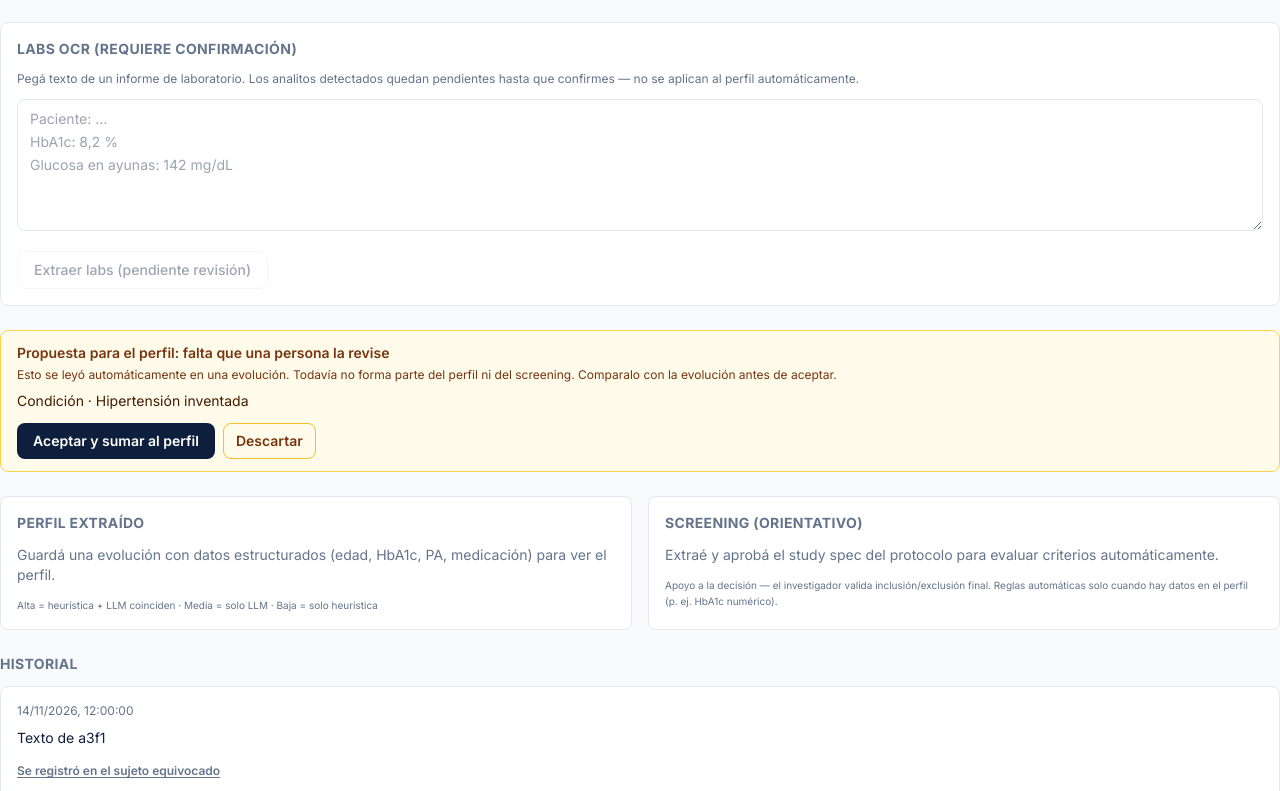
una lectura del perfil que falla no se calla › después de descartar una propuesta, si la relectura falla
(page scrolled)
Click the button "Descartar": click(269, 440) x1=223 y1=422 x2=316 y2=458
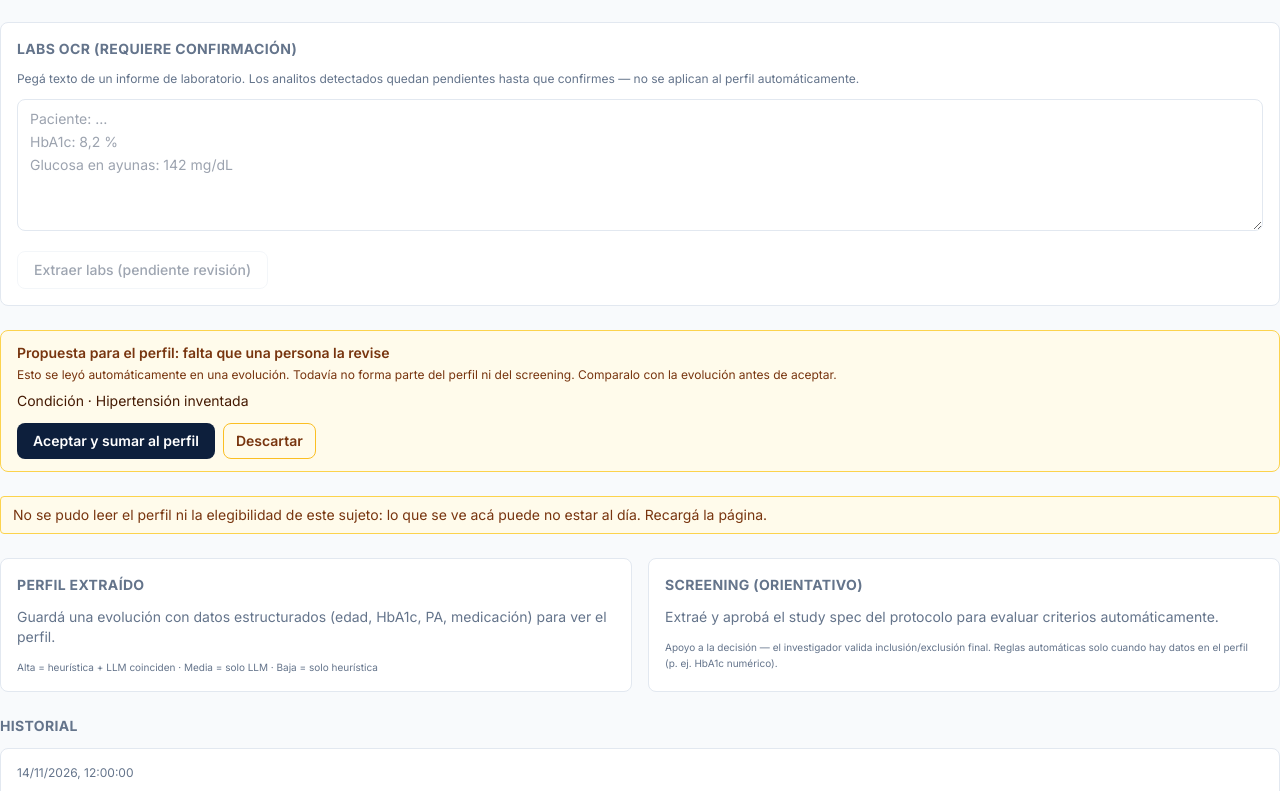
expect the text "No se pudo leer el perfil ni la elegibilidad de este sujeto: lo que se ve acá puede no estar al día. Recargá la página." is shown: met, box x1=13 y1=506 x2=767 y2=522
